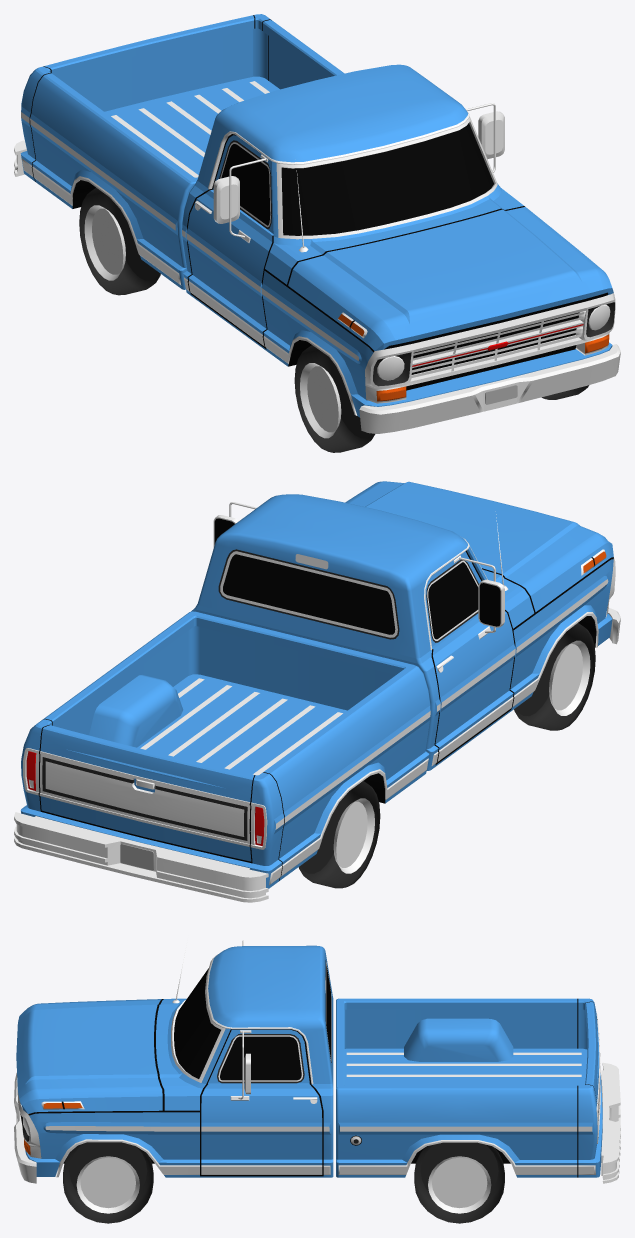
The model's file is pickup.glb.
The picture shows the model from 3 angles, top to bottom: view 1: azimuth 30°, elevation 25°; view 2: azimuth 150°, elevation 25°; view 3: azimuth 270°, elevation 25°; orthographic projection. The views are drawn at different scales.
Visible parts, largest first — view 1: body, wheels, bump; view 2: body, wheels, bump; view 3: body, wheels, bump.
Part boxes in pixels (x1,y1,x2,y2): body: [20, 14, 615, 417]; wheels: [79, 187, 589, 452]; bump: [14, 140, 620, 433]; body: [20, 481, 615, 888]; wheels: [298, 623, 595, 888]; bump: [14, 608, 620, 902]; body: [16, 940, 602, 1177]; wheels: [63, 1142, 504, 1223]; bump: [14, 1062, 620, 1183].
Size of the model in its own units: 207 by 173 by 464.
